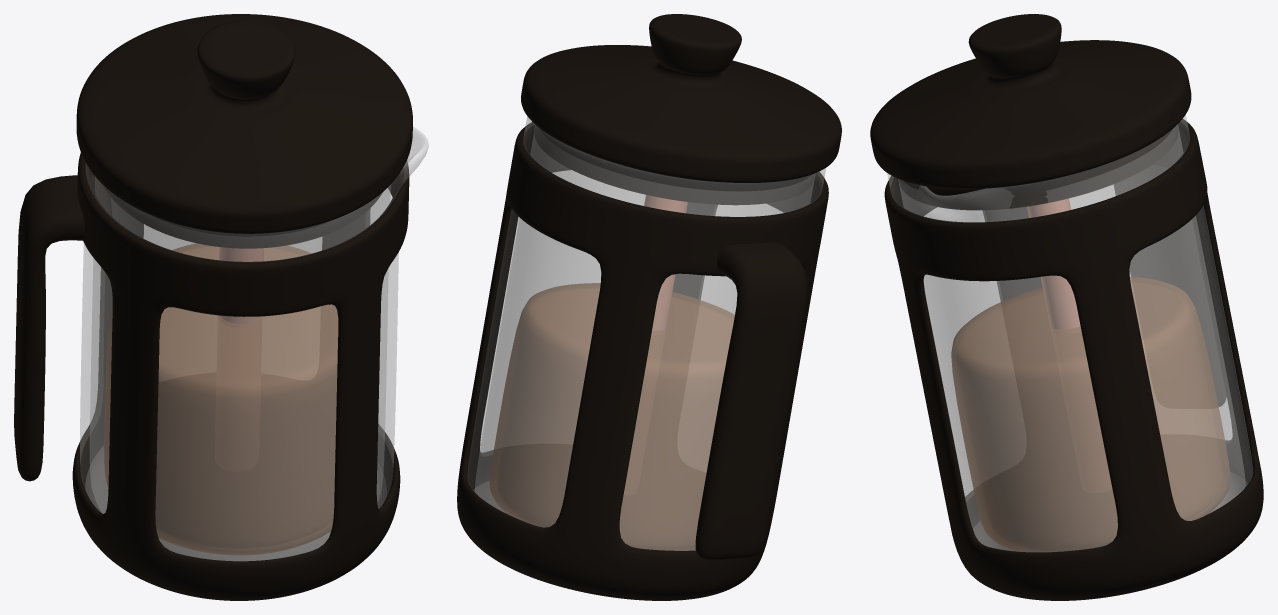
The model's file is French-press.glb.
3 views of the same model, side by side, from view 1: azimuth 30°, elevation 25°; view 2: azimuth 150°, elevation 25°; view 3: azimuth 270°, elevation 25° (orthographic). The views are drawn at different scales.
Parts seen in each view (by area): view 1: Cylinder.005, Circle.011, Cylinder.006, Cylinder.007, Plane.011, Cylinder.008; view 2: Cylinder.005, Cylinder.006, Circle.011, Cylinder.007, Plane.011, Cylinder.008; view 3: Cylinder.005, Cylinder.006, Cylinder.007, Circle.011, Plane.011, Cylinder.008.
Boxes of the visible parts, bbox=[...] form: Cylinder.005: bbox=[80, 126, 428, 561]; Circle.011: bbox=[76, 14, 412, 248]; Cylinder.006: bbox=[72, 152, 409, 600]; Cylinder.007: bbox=[104, 243, 338, 555]; Plane.011: bbox=[14, 175, 112, 481]; Cylinder.008: bbox=[218, 247, 263, 328]; Cylinder.005: bbox=[467, 116, 825, 550]; Cylinder.006: bbox=[457, 122, 828, 600]; Circle.011: bbox=[521, 14, 841, 205]; Cylinder.007: bbox=[489, 283, 734, 550]; Plane.011: bbox=[695, 242, 807, 560]; Cylinder.008: bbox=[644, 195, 687, 334]; Cylinder.005: bbox=[887, 115, 1252, 551]; Cylinder.006: bbox=[884, 119, 1263, 600]; Cylinder.007: bbox=[951, 277, 1230, 552]; Circle.011: bbox=[870, 14, 1191, 210]; Plane.011: bbox=[1114, 165, 1226, 406]; Cylinder.008: bbox=[1027, 198, 1080, 333].
Bounding box in the file's own units: 3.82 × 5.82 × 3.9.
